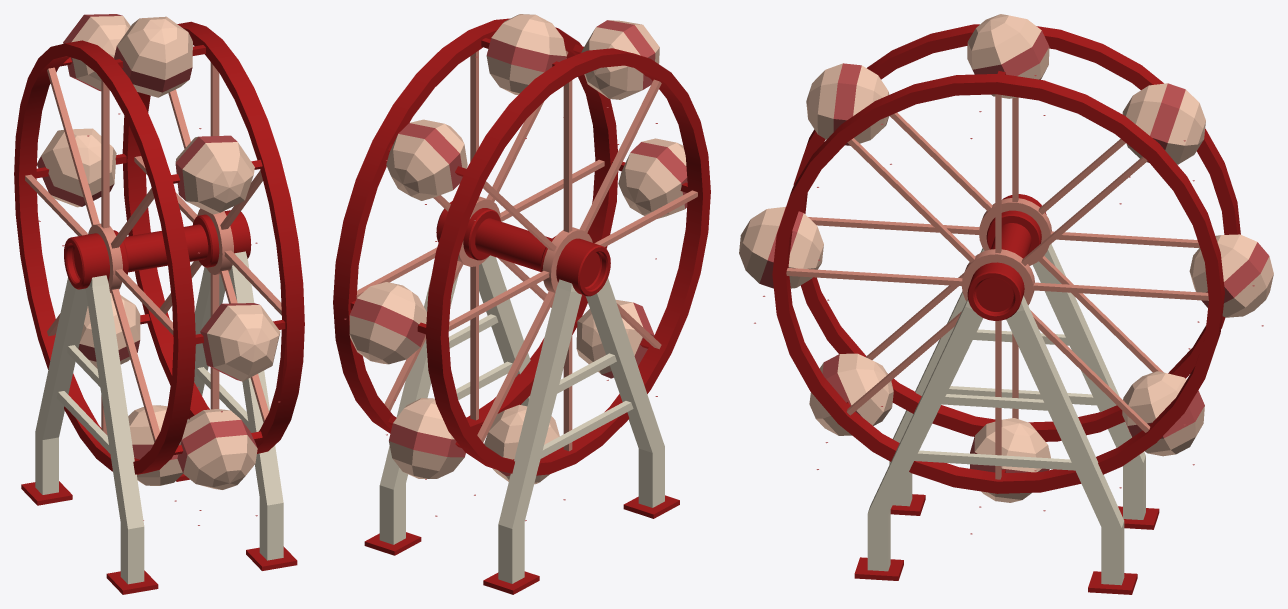
The model's file is 02_donme_dolap.fbx.
3 views of the same model, side by side, from view 1: azimuth 30°, elevation 25°; view 2: azimuth 150°, elevation 25°; view 3: azimuth 270°, elevation 25° (orthographic). The views are drawn at different scales.
Parts seen in each view (by area): view 1: Circle, Cube.010, Circle.005, Circle.003, Circle.004; view 2: Circle, Cube.010, Circle.005, Circle.003, Circle.004; view 3: Circle, Cube.010, Circle.005, Circle.004, Circle.003.
Boxes of the visible parts, x1=… form: Circle: x1=14, y1=14, x2=304, y2=525; Cube.010: x1=21, y1=251, x2=297, y2=594; Circle.005: x1=64, y1=210, x2=251, y2=289; Circle.003: x1=123, y1=224, x2=208, y2=272; Circle.004: x1=88, y1=208, x2=233, y2=292; Circle: x1=333, y1=14, x2=710, y2=521; Cube.010: x1=364, y1=255, x2=679, y2=594; Circle.005: x1=436, y1=201, x2=610, y2=296; Circle.003: x1=475, y1=218, x2=551, y2=271; Circle.004: x1=457, y1=196, x2=592, y2=292; Circle: x1=739, y1=14, x2=1273, y2=534; Cube.010: x1=854, y1=244, x2=1159, y2=594; Circle.005: x1=967, y1=194, x2=1046, y2=320; Circle.004: x1=961, y1=198, x2=1051, y2=319; Circle.003: x1=991, y1=223, x2=1031, y2=258.
Size of the model in its own units: 6.98 by 16.08 by 17.46.
